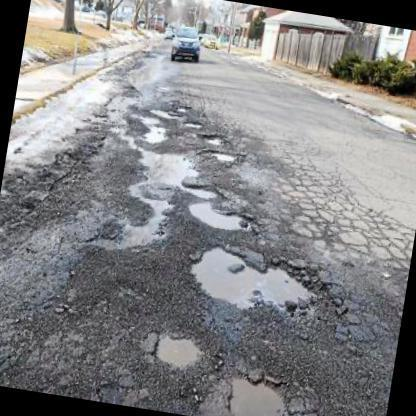pothole: (190, 236, 328, 315), (134, 143, 224, 203), (89, 196, 179, 254), (222, 367, 306, 416), (142, 324, 212, 370), (188, 196, 262, 234), (132, 109, 176, 144), (204, 149, 242, 166), (202, 130, 225, 146), (185, 117, 205, 131)
